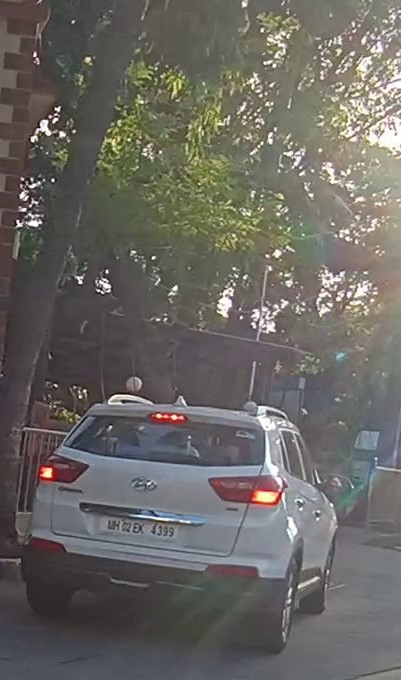MH02EK4399: (99, 512, 184, 543)
